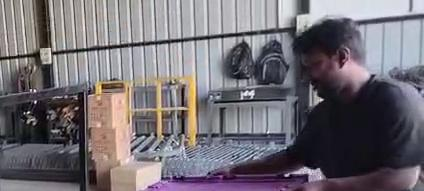box: (143, 175, 307, 190)
